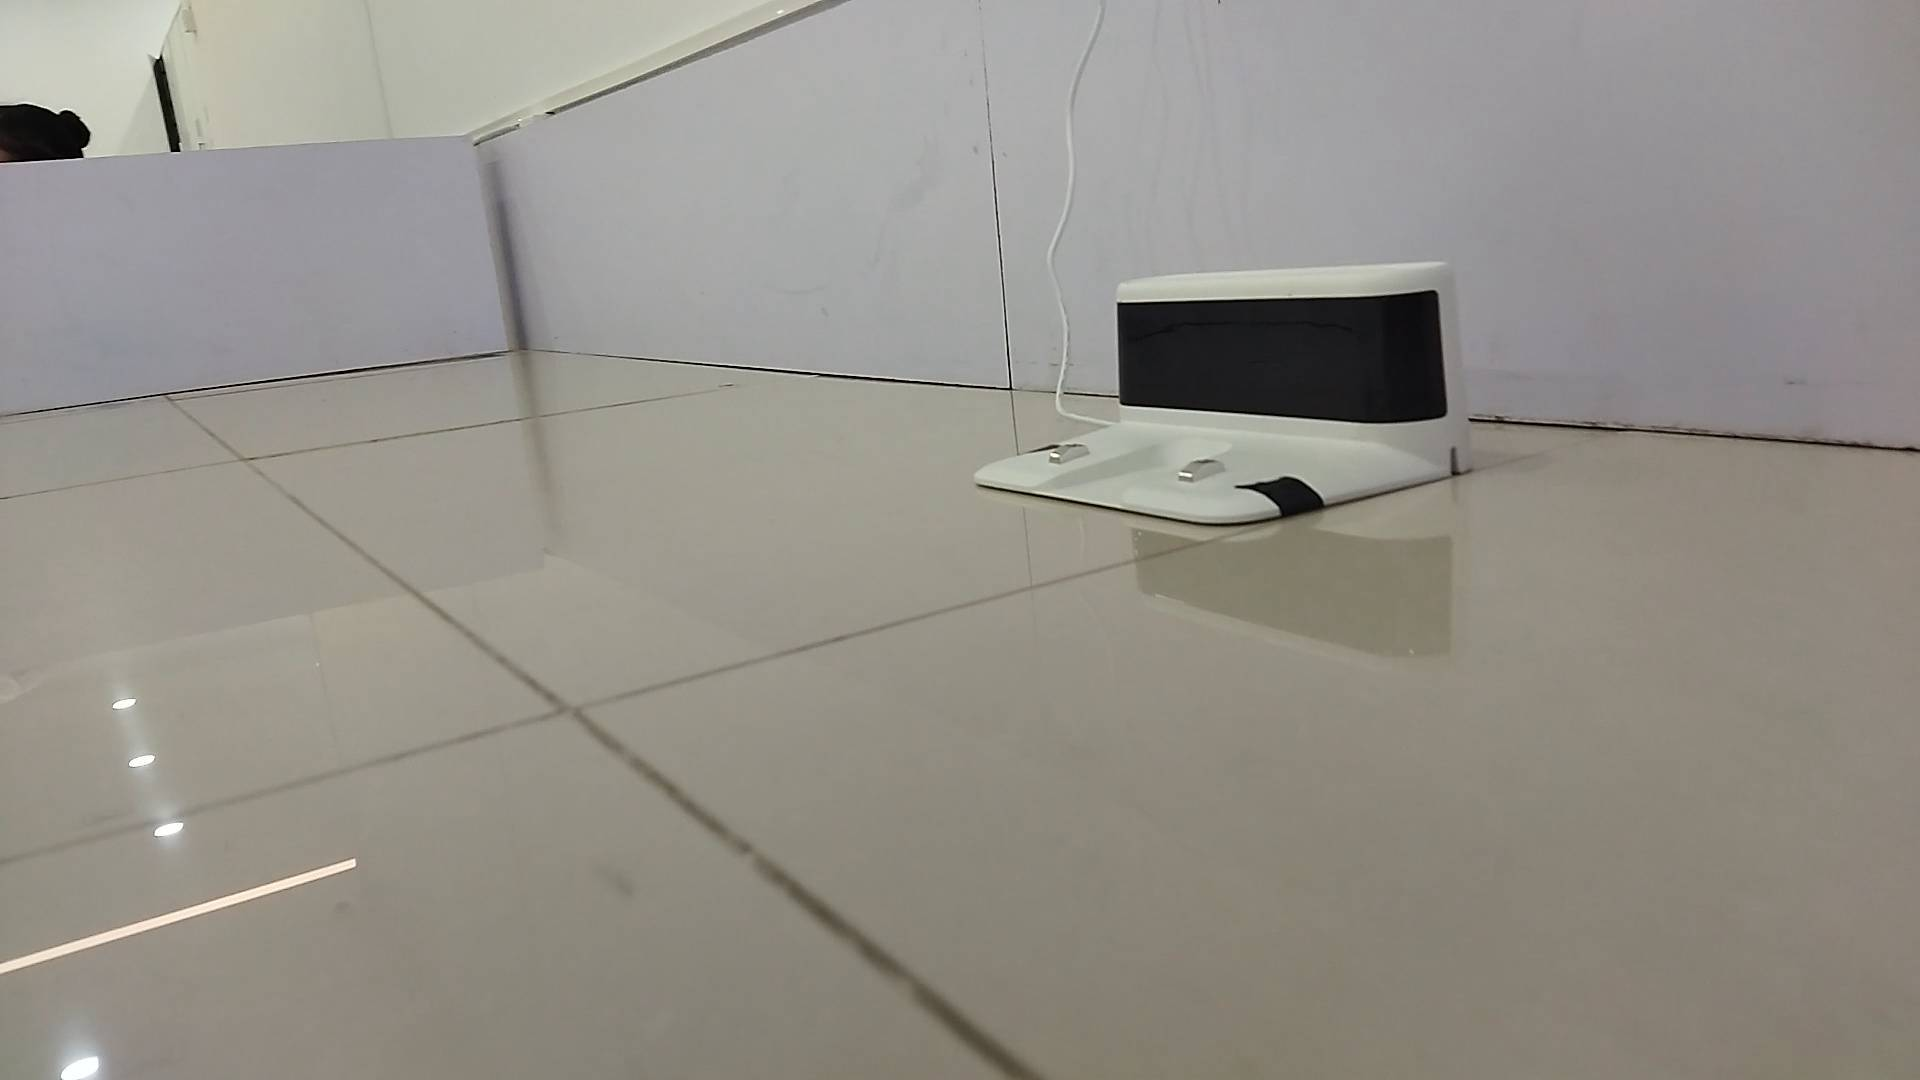recharge seat: (975, 260, 1481, 526)
